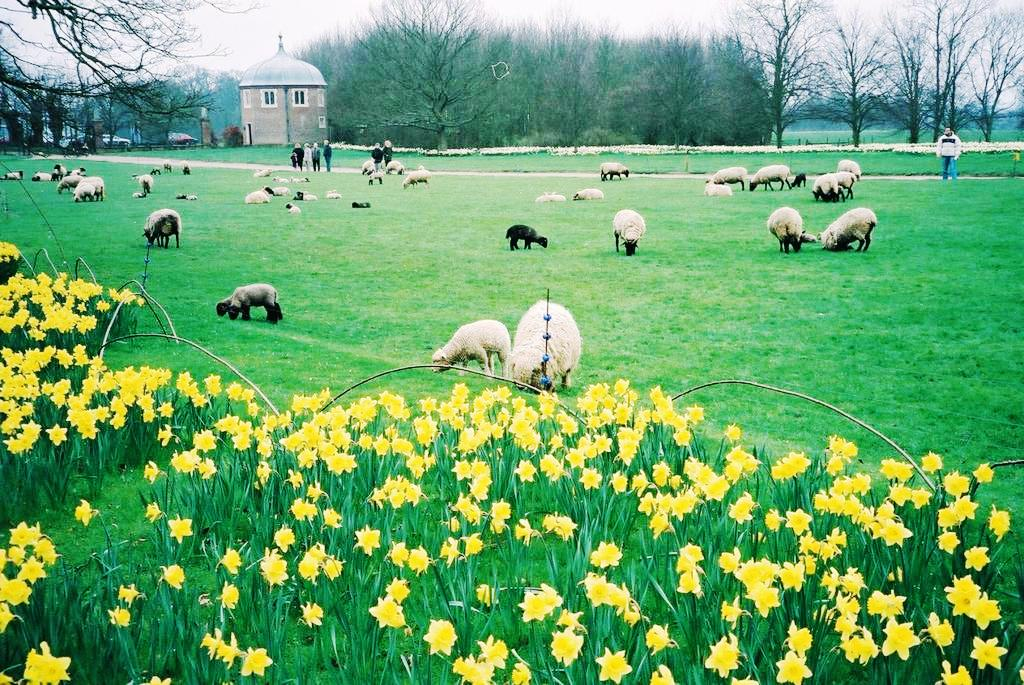Sheep: (505, 298, 581, 398), (430, 320, 511, 384), (819, 204, 880, 253), (215, 282, 285, 324), (224, 282, 283, 325), (764, 206, 804, 252), (614, 210, 648, 259), (142, 211, 182, 251), (749, 164, 793, 190), (506, 224, 546, 252), (705, 165, 748, 189), (808, 173, 837, 202), (829, 170, 858, 198), (398, 171, 434, 192), (72, 181, 105, 201), (835, 159, 863, 180), (245, 187, 275, 205), (600, 164, 630, 181), (72, 186, 96, 203), (571, 190, 606, 201), (139, 173, 155, 195), (366, 171, 388, 186), (283, 200, 302, 217), (0, 169, 23, 182), (293, 190, 316, 202), (790, 173, 808, 188), (30, 170, 50, 182), (69, 166, 87, 179), (54, 163, 67, 180), (253, 167, 273, 178), (544, 191, 564, 201), (180, 160, 191, 177), (536, 192, 548, 203)
